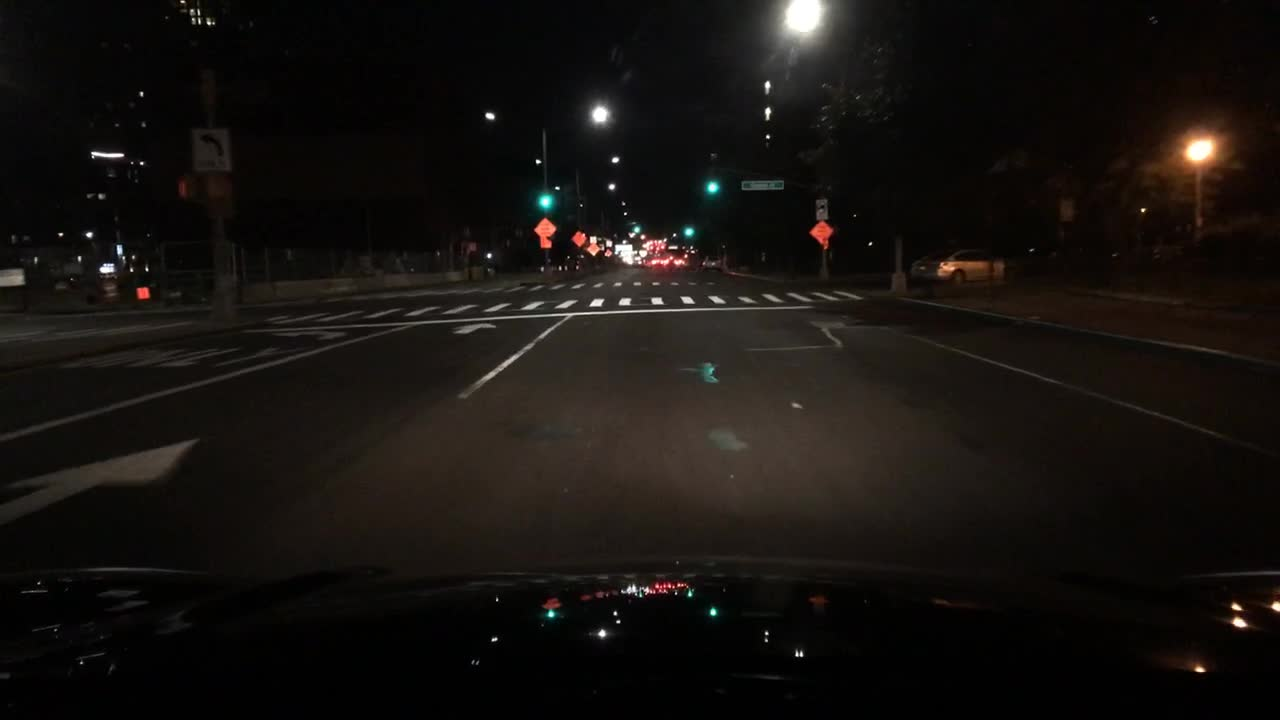car: (909, 245, 1007, 286), (1005, 243, 1060, 272), (1146, 237, 1186, 263), (701, 254, 721, 272), (650, 254, 668, 269), (630, 254, 644, 266), (672, 255, 685, 266)
traffic light: (202, 170, 233, 203), (174, 173, 193, 199), (541, 187, 551, 206), (631, 221, 639, 233), (709, 177, 715, 193), (685, 223, 690, 234)
traffic sign: (191, 128, 230, 170), (806, 219, 832, 245), (531, 218, 556, 236), (740, 180, 784, 190), (570, 230, 588, 245), (814, 198, 826, 219), (585, 242, 598, 254), (539, 239, 552, 246), (601, 246, 611, 255)
